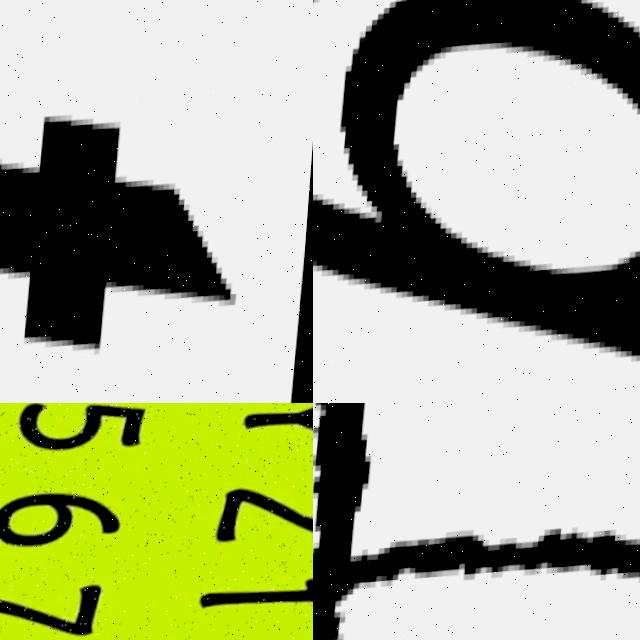1: (313, 403, 640, 640), (184, 557, 313, 640)
5: (0, 403, 173, 503)
6: (0, 458, 149, 587)
7: (0, 557, 126, 640)
G: (313, 0, 640, 403)
T: (0, 85, 267, 401)
